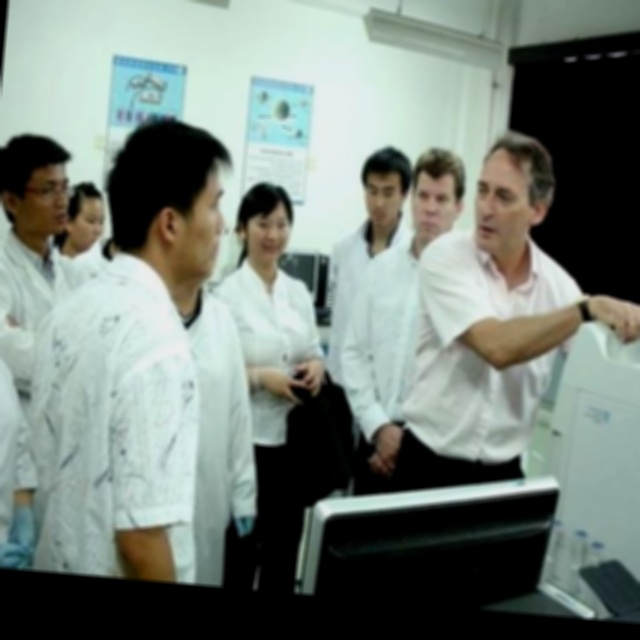Sin_Casco_Mascarrilla: (471, 127, 558, 257), (231, 182, 295, 272), (356, 142, 414, 229)
